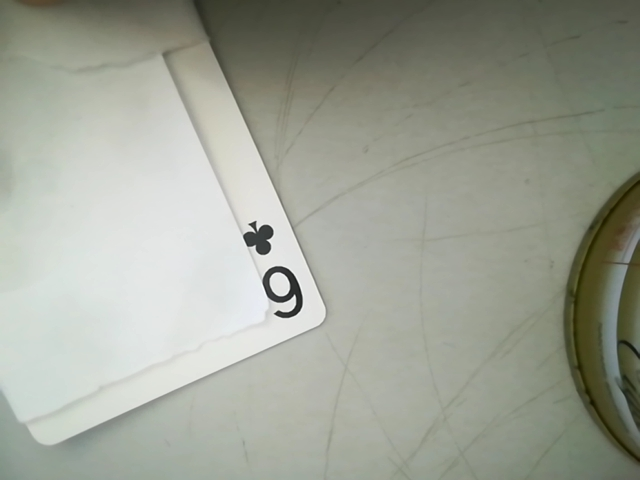mh 6: (236, 207, 314, 323)
